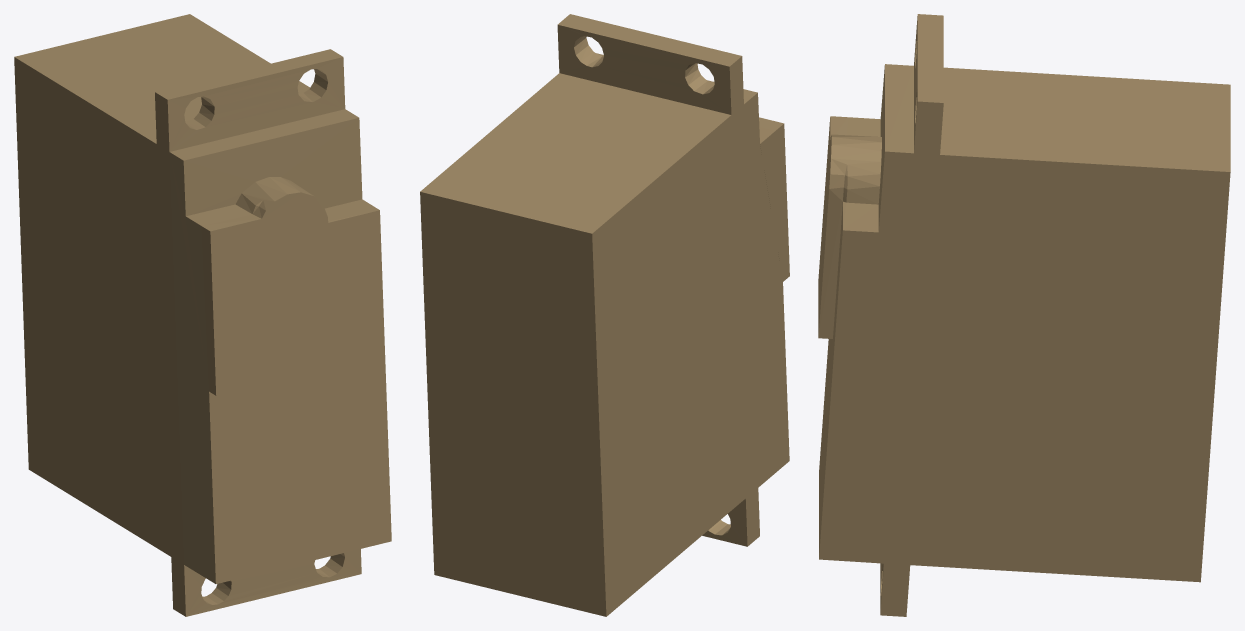
File: Texture.245.dae.light.glb
3 renders of one model, left to right at view 1: azimuth 30°, elevation 25°; view 2: azimuth 150°, elevation 25°; view 3: azimuth 270°, elevation 25°, orthographic. The views are drawn at different scales.
Size of the model in its own units: 0.2828 by 0.7762 by 0.5625.
